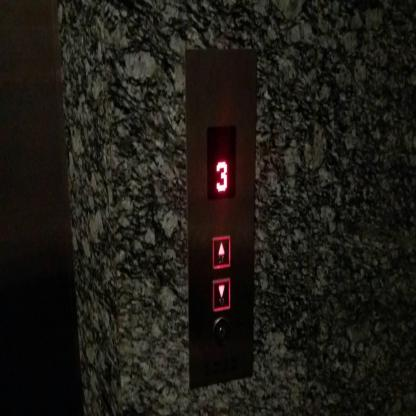down: (211, 274, 231, 312)
led: (205, 121, 237, 207)
up: (211, 233, 231, 270)
